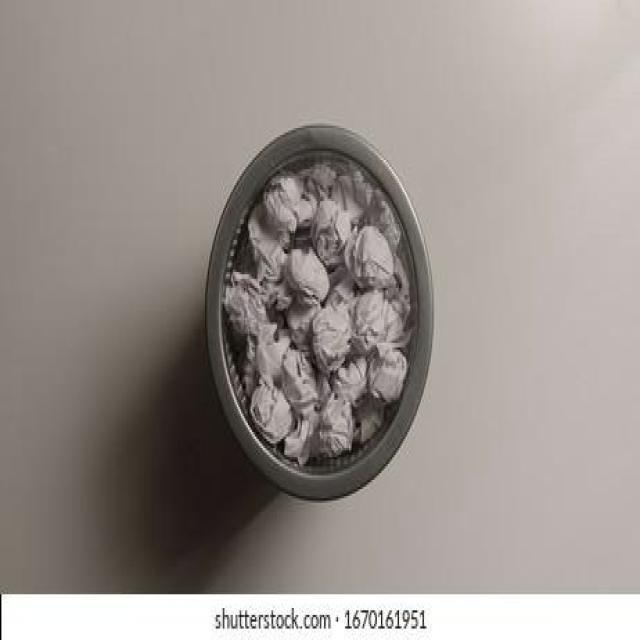Paper: (224, 159, 410, 467)
top_view_waste: (220, 146, 415, 463)
